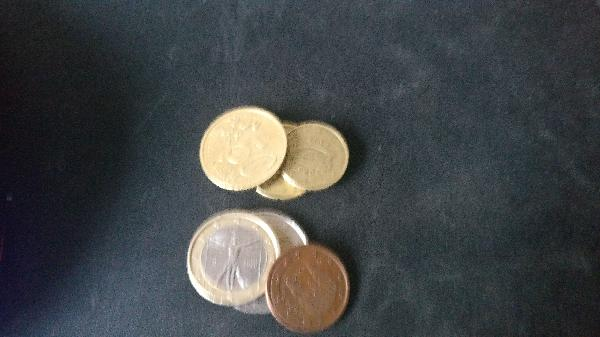Fifty Cent: (195, 99, 291, 192)
Five Cent: (264, 243, 356, 330)
One Euro: (187, 212, 287, 308)
Ten Cent: (285, 123, 352, 192)
